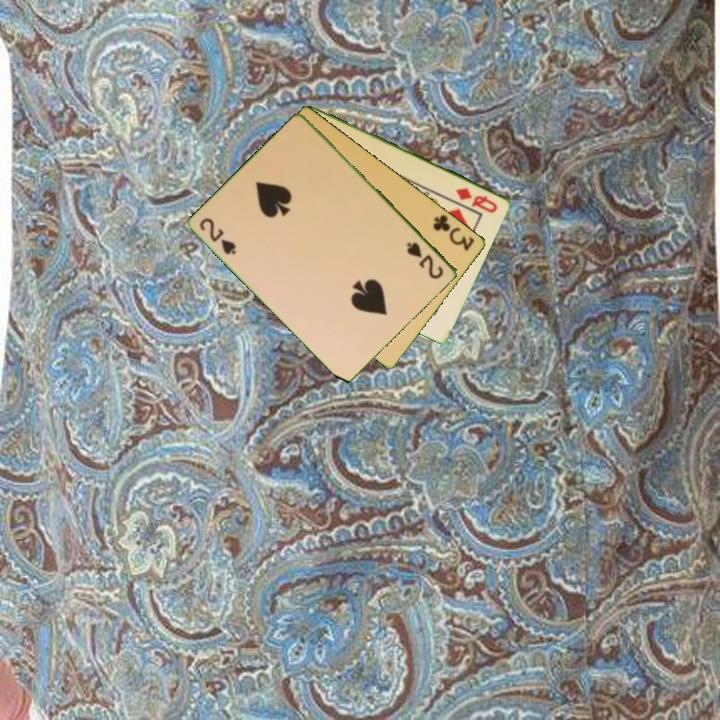2s: (403, 238, 447, 282), (196, 214, 240, 258)
3c: (430, 211, 478, 254)
Qd: (452, 183, 501, 216)
